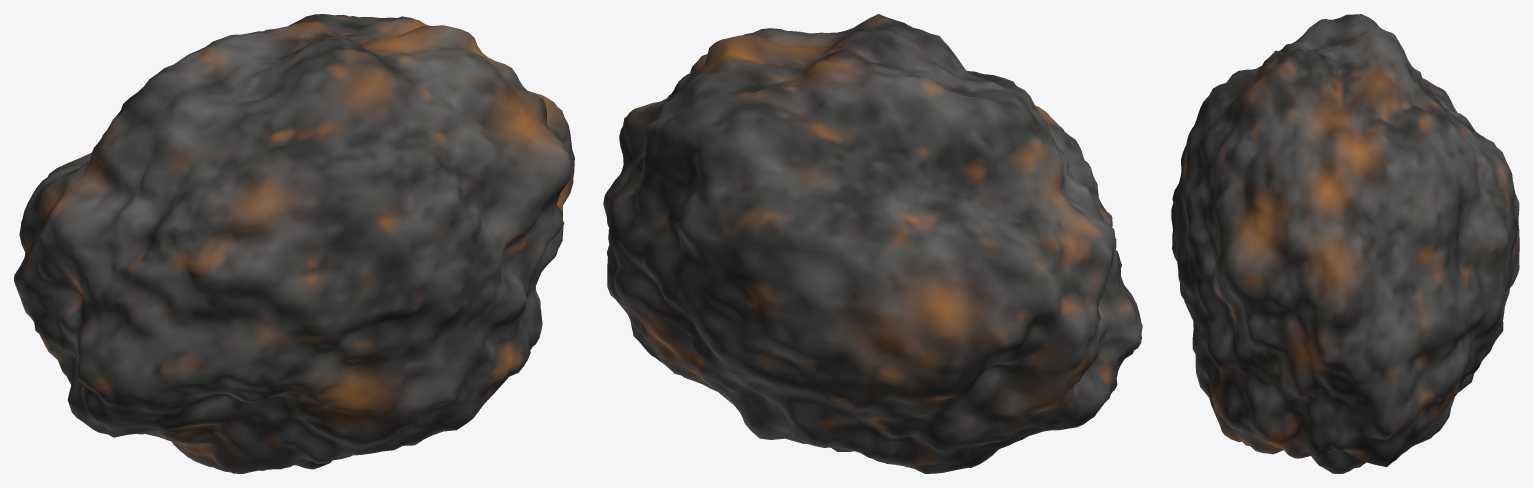
The model's file is meteorite-model.glb.
3 renders of one model, left to right at view 1: azimuth 30°, elevation 25°; view 2: azimuth 150°, elevation 25°; view 3: azimuth 270°, elevation 25°, orthographic. The views are drawn at different scales.
Visible parts, largest first — view 1: Meteorite • inferred 3D specimen; view 2: Meteorite • inferred 3D specimen; view 3: Meteorite • inferred 3D specimen.
Boxes of the visible parts, x1=… form: Meteorite • inferred 3D specimen: x1=14, y1=14, x2=574, y2=473; Meteorite • inferred 3D specimen: x1=603, y1=14, x2=1142, y2=473; Meteorite • inferred 3D specimen: x1=1171, y1=14, x2=1519, y2=473.
Bounding box in the file's own units: 2.56 × 2.03 × 1.64.
